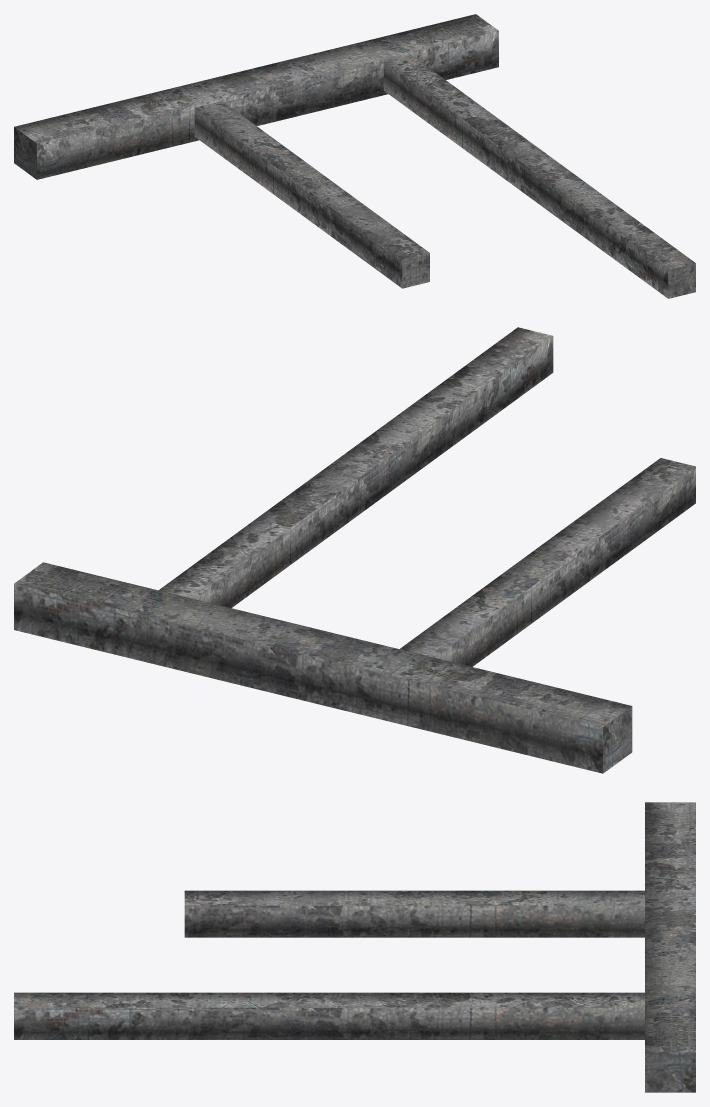
Rendered from doorbars.obj.
3 views of the same model, one above another, from view 1: azimuth 30°, elevation 25°; view 2: azimuth 150°, elevation 25°; view 3: azimuth 270°, elevation 25° (orthographic). The views are drawn at different scales.
Parts seen in each view (by area): view 1: Box098_Mesh.010; view 2: Box098_Mesh.010; view 3: Box098_Mesh.010.
Part boxes in pixels (<box>): Box098_Mesh.010: <box>14,14,695,298</box>; Box098_Mesh.010: <box>14,327,695,773</box>; Box098_Mesh.010: <box>14,802,695,1092</box>.
Bounding box in the file's own units: 0.501 × 0.0377 × 0.5776.
